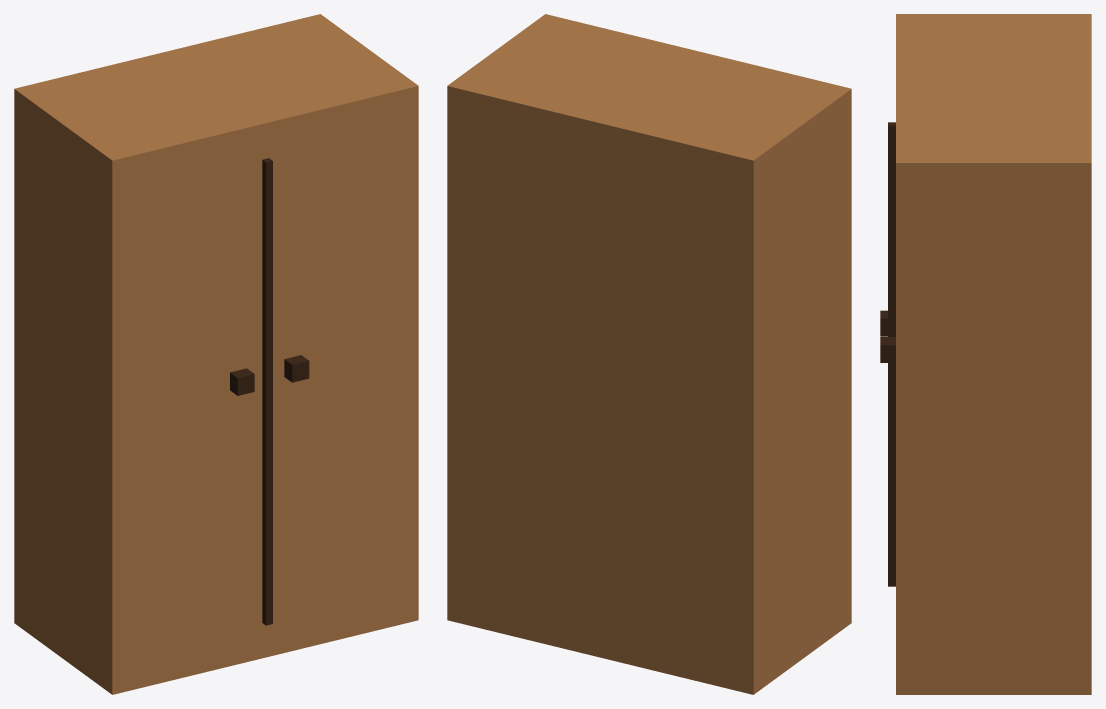
Rendered from falling_wardrobe.glb.
3 views of the same model, side by side, from view 1: azimuth 30°, elevation 25°; view 2: azimuth 150°, elevation 25°; view 3: azimuth 270°, elevation 25° (orthographic).
Visible parts, largest first — view 1: wardrobe_moving_wood, wardrobe_knob; view 2: wardrobe_moving_wood; view 3: wardrobe_moving_wood, wardrobe_knob.
Boxes of the visible parts, bbox=[...] form: wardrobe_moving_wood: bbox=[14, 14, 418, 694]; wardrobe_knob: bbox=[230, 158, 309, 625]; wardrobe_moving_wood: bbox=[447, 14, 851, 694]; wardrobe_moving_wood: bbox=[896, 14, 1091, 694]; wardrobe_knob: bbox=[880, 122, 895, 586].
Bounding box in the file's own units: 0.9 × 1.5 × 0.54.
